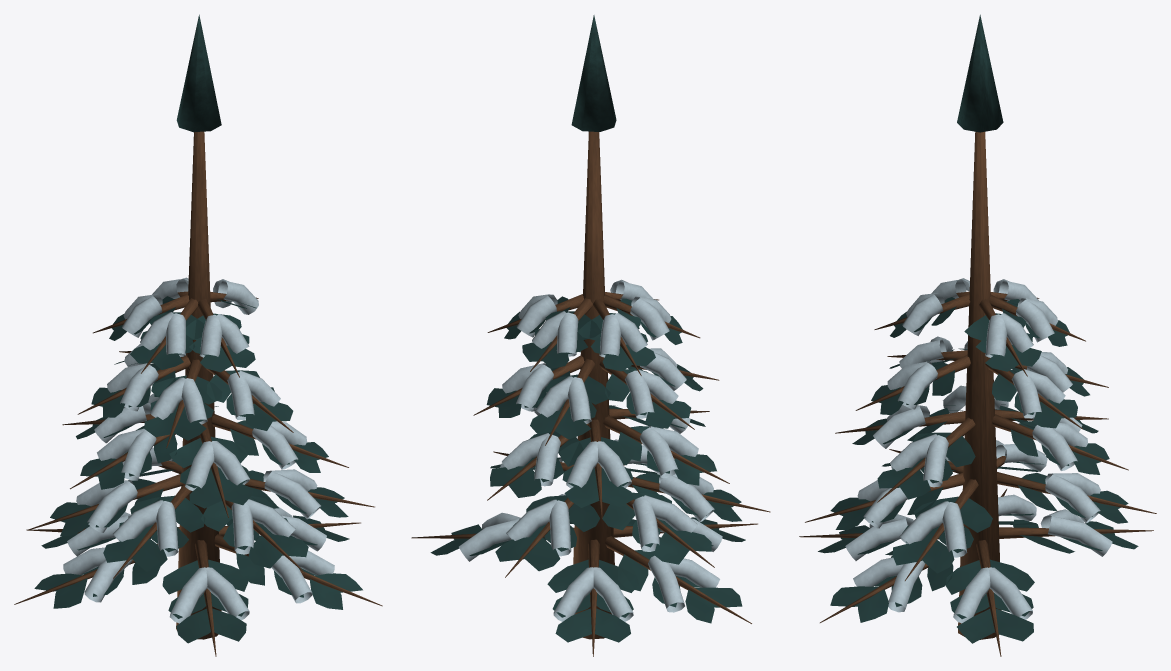
Rendered from prop_fir_1.glb.
The picture shows the model from 3 angles, left to right: view 1: azimuth 30°, elevation 25°; view 2: azimuth 150°, elevation 25°; view 3: azimuth 270°, elevation 25°; orthographic projection.
Visible parts, largest first — view 1: Fir_needles, Soft_windblown_snow, Old_oak; view 2: Fir_needles, Soft_windblown_snow, Old_oak; view 3: Soft_windblown_snow, Fir_needles, Old_oak.
Part boxes in pixels (<box>): Fir_needles: <box>34,14,362,643</box>; Soft_windblown_snow: <box>63,277,334,623</box>; Old_oak: <box>14,131,382,656</box>; Fir_needles: <box>430,15,745,642</box>; Soft_windblown_snow: <box>459,279,722,621</box>; Old_oak: <box>411,131,770,656</box>; Soft_windblown_snow: <box>845,278,1112,623</box>; Fir_needles: <box>818,14,1138,643</box>; Old_oak: <box>799,131,1156,656</box>.
Size of the model in its own units: 4.23 by 7.24 by 3.81.
Materials: 3 (3 with a texture image).
